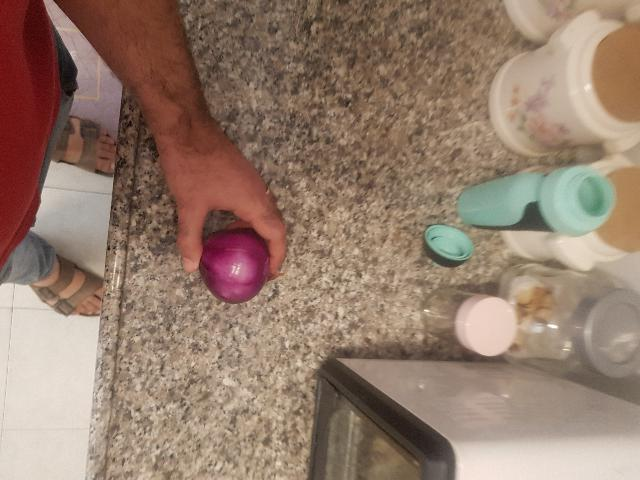onion: (378, 370, 459, 446)
